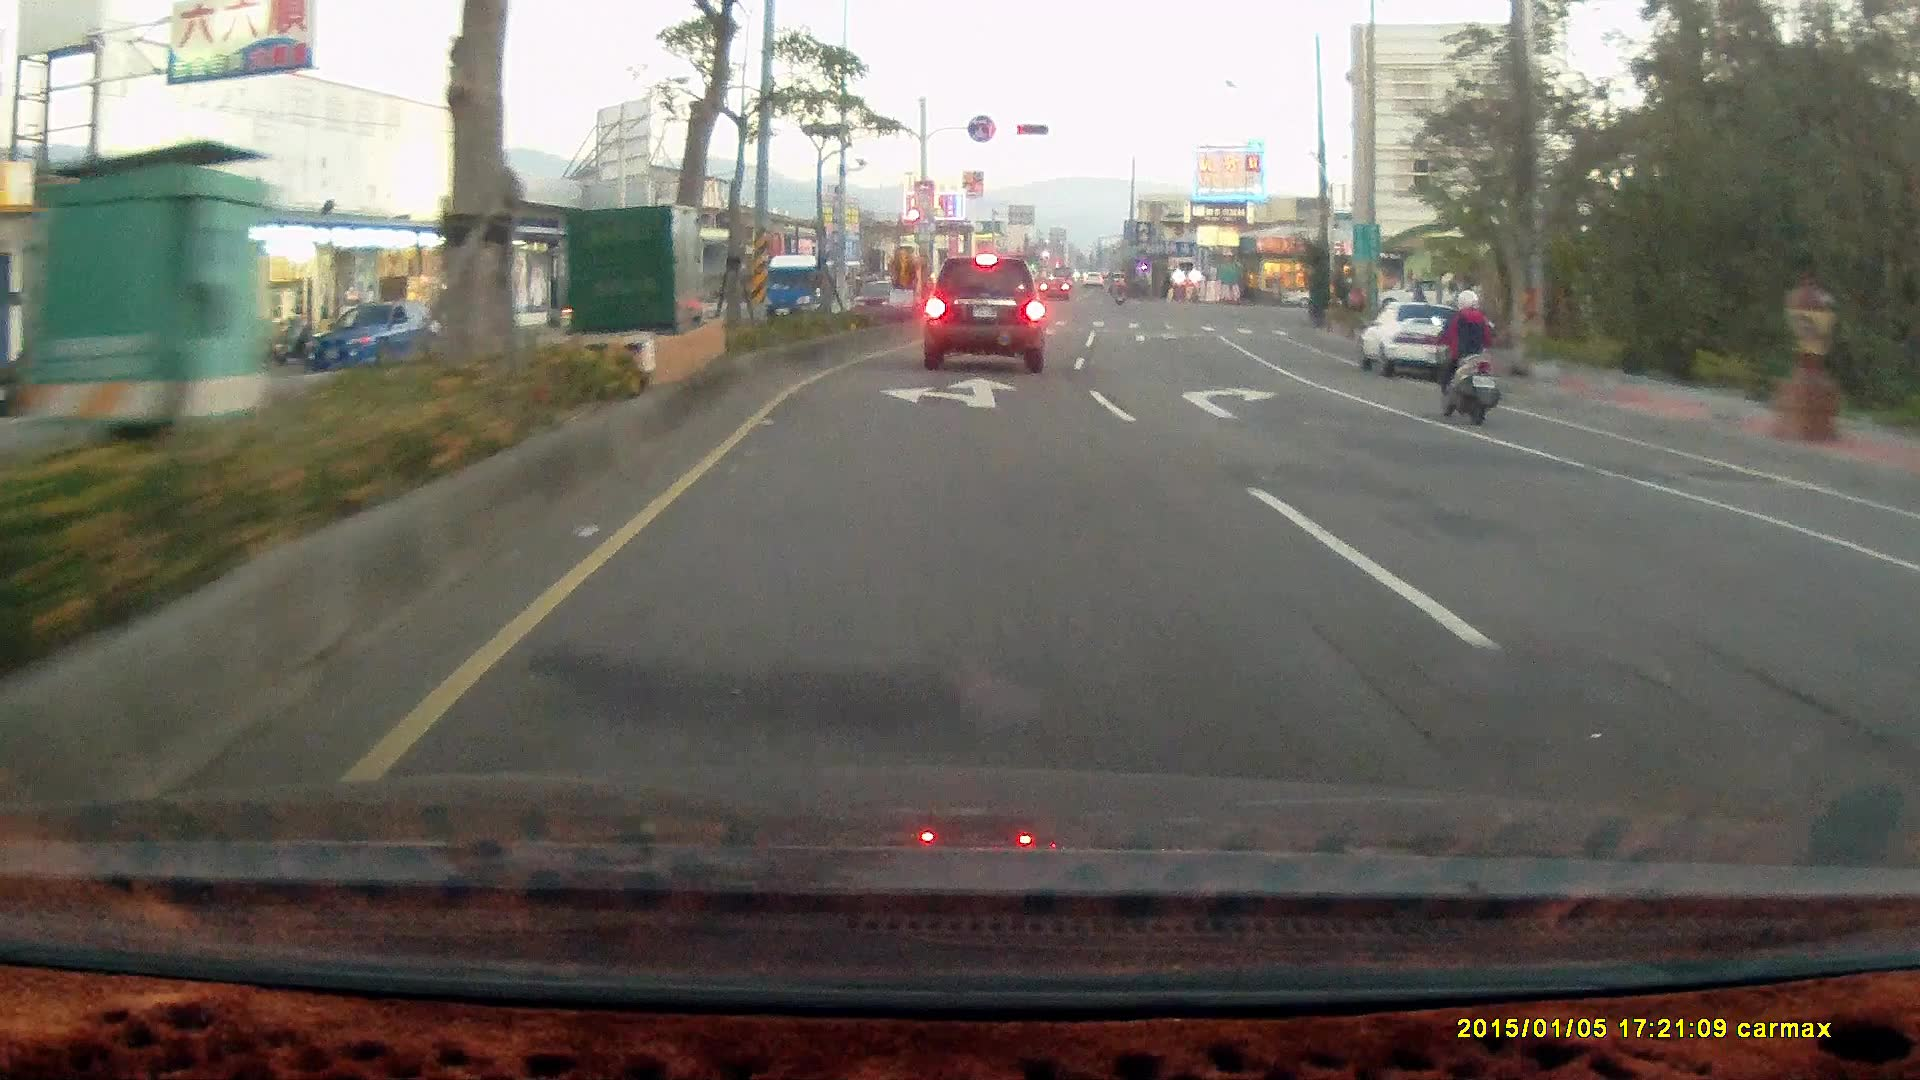rider: (1425, 283, 1503, 423)
vehicle: (921, 255, 1044, 373), (1355, 300, 1482, 381), (1361, 304, 1496, 380), (309, 299, 444, 372), (1896, 493, 1920, 836), (1883, 528, 1920, 690), (1372, 275, 1462, 313)
